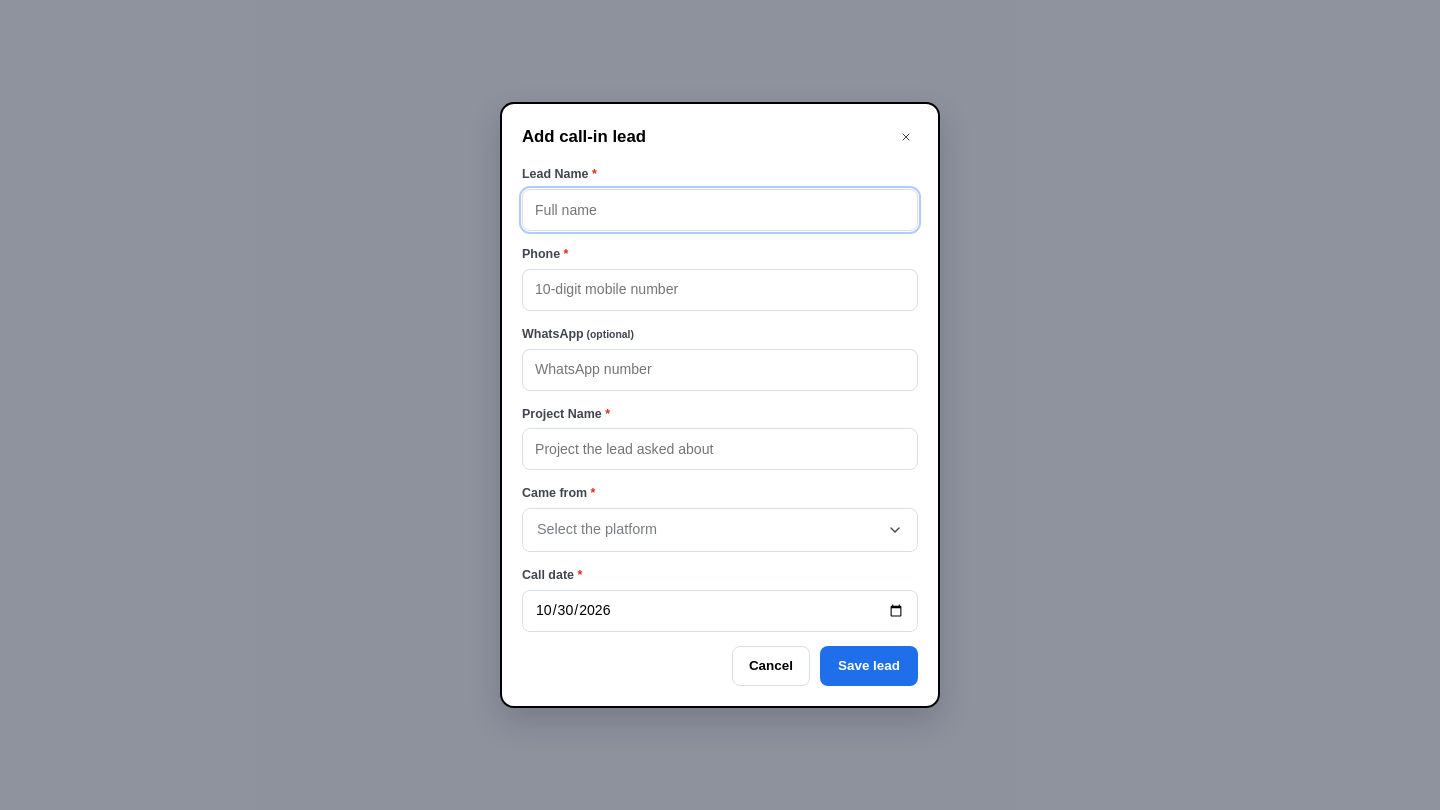
Test: AddCallInLeadDialog › when a platform was disconnected while the form was open, shows the error and the current platforms
The image size is (1440, 810).
Click the button named "Came from".
click(597, 529)  # box x1=522 y1=508 x2=918 y2=552
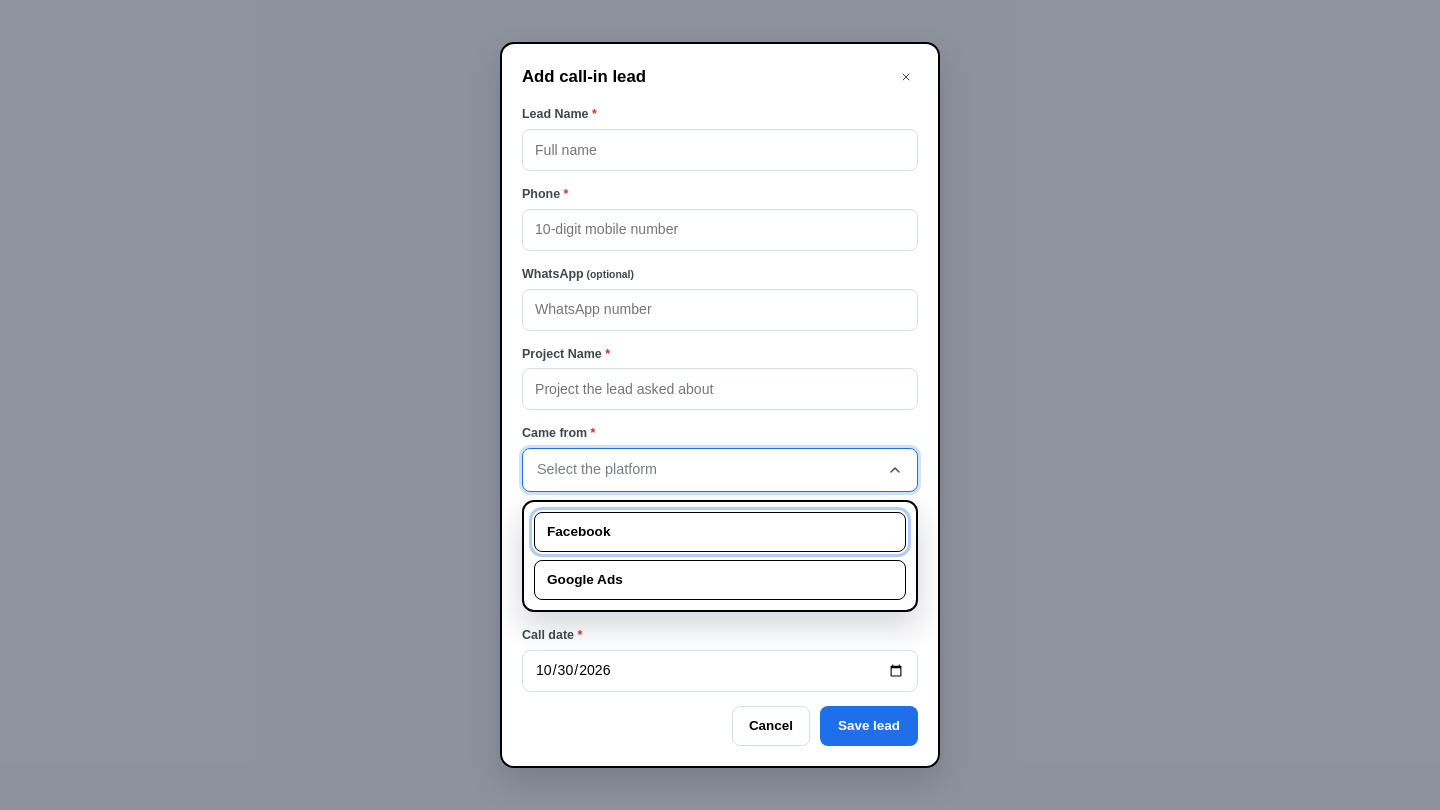
Click the option "Google Ads".
click(585, 579)  # box x1=534 y1=560 x2=906 y2=600
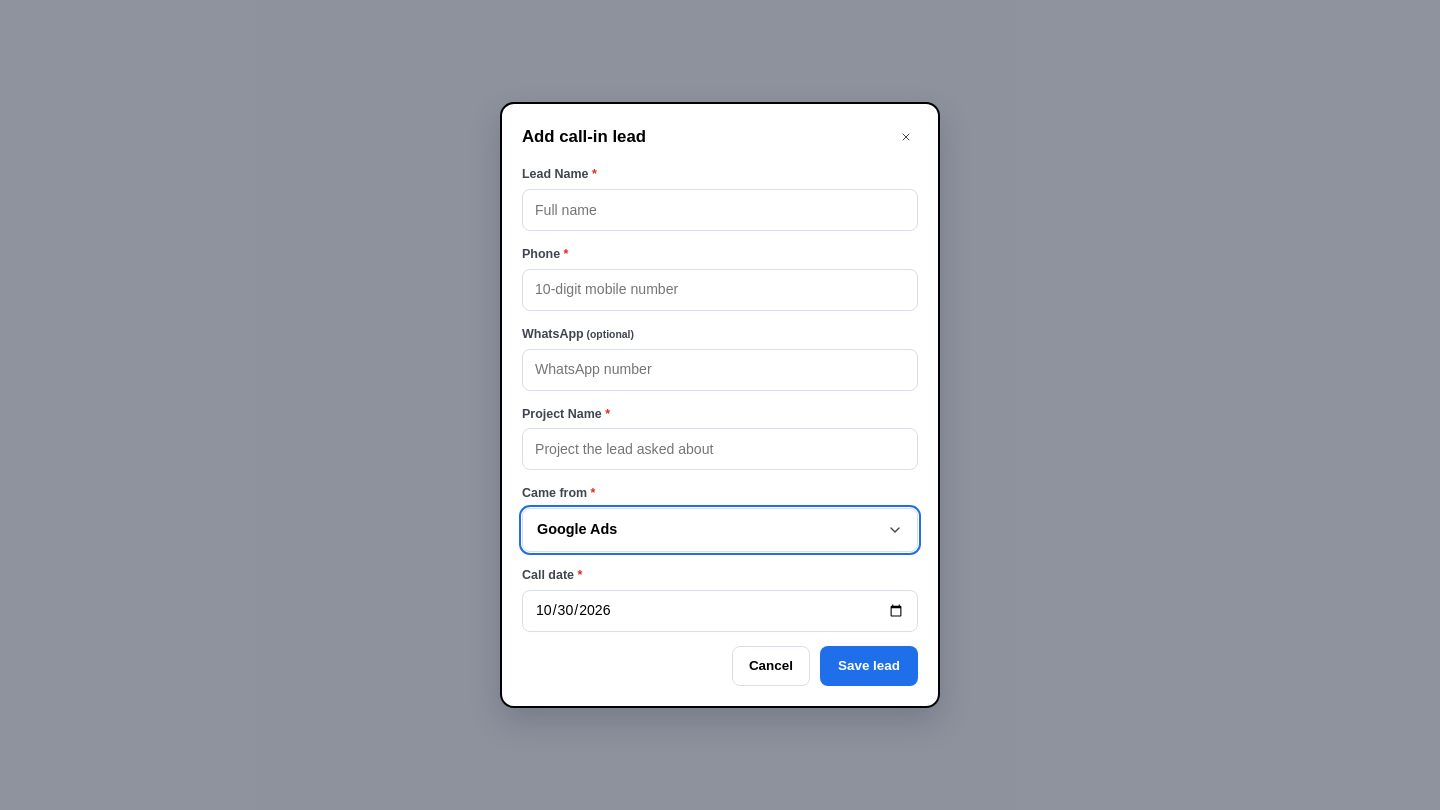
Type "Ravi" into the field with placeholder "Full name".
click(720, 210); type("Ravi")  # box x1=522 y1=189 x2=918 y2=231
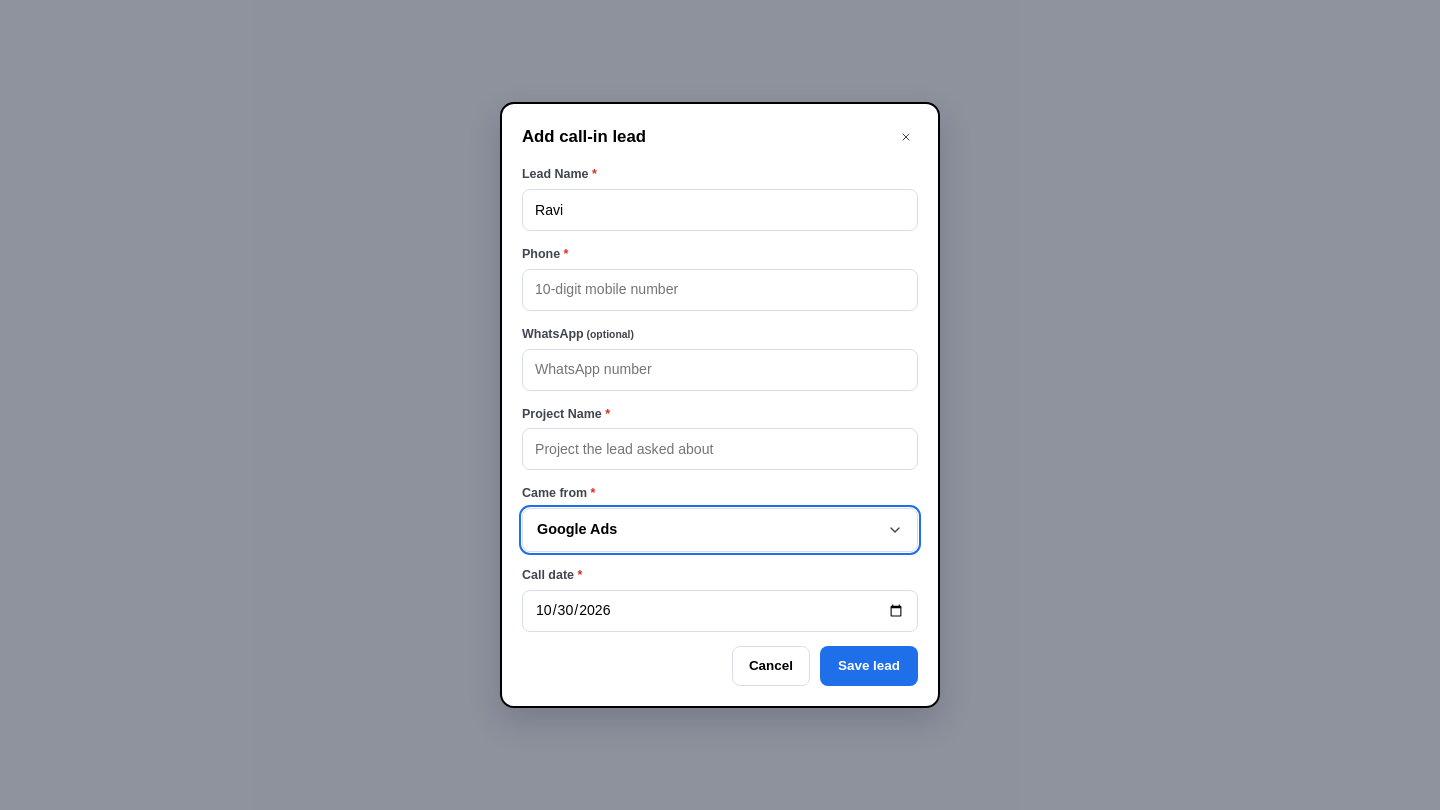
Type "9876543210" into the field with placeholder "10-digit mobile number".
click(720, 290); type("9876543210")  # box x1=522 y1=269 x2=918 y2=311
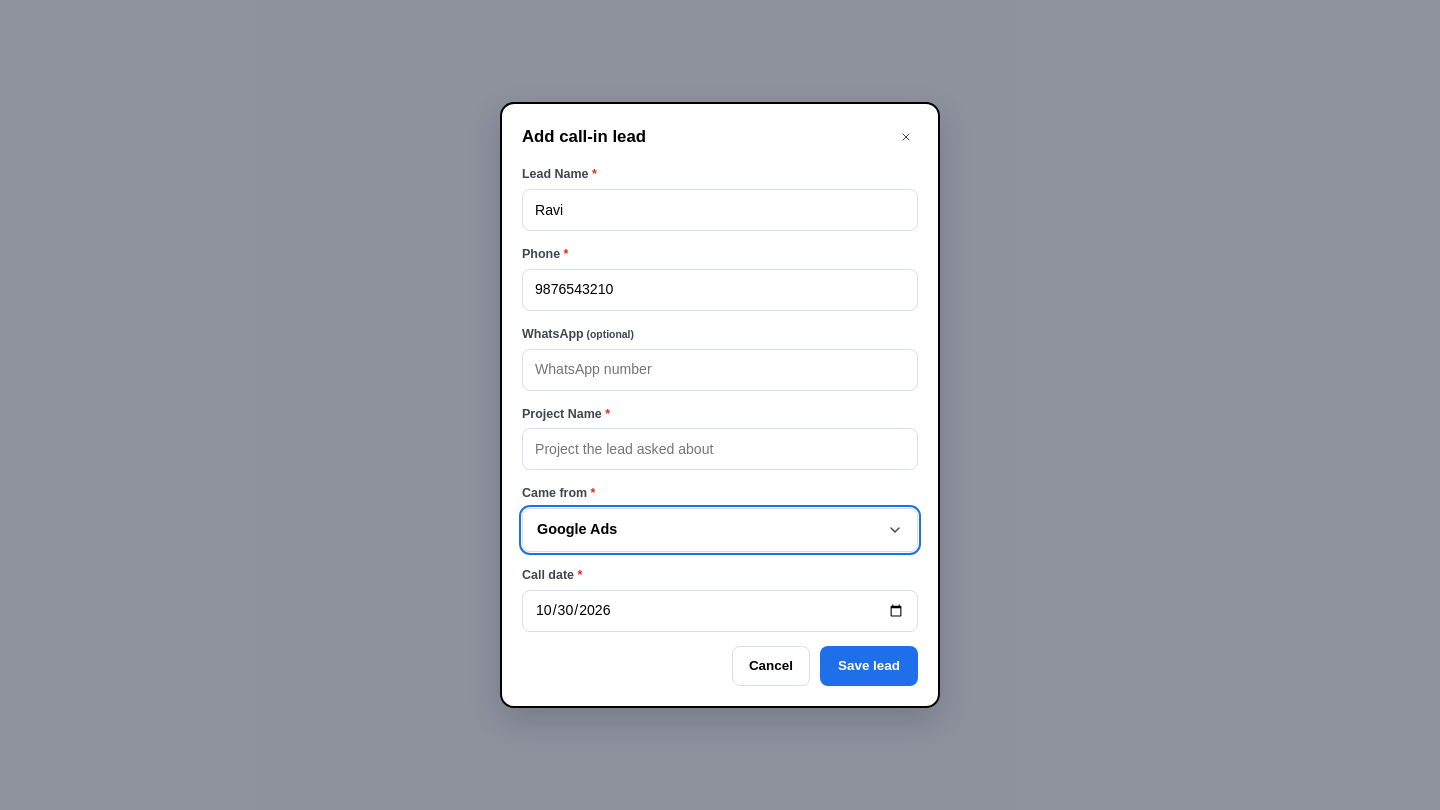
Type "Karuvi" into the field with placeholder "Project the lead asked about".
click(720, 449); type("Karuvi")  # box x1=522 y1=428 x2=918 y2=470
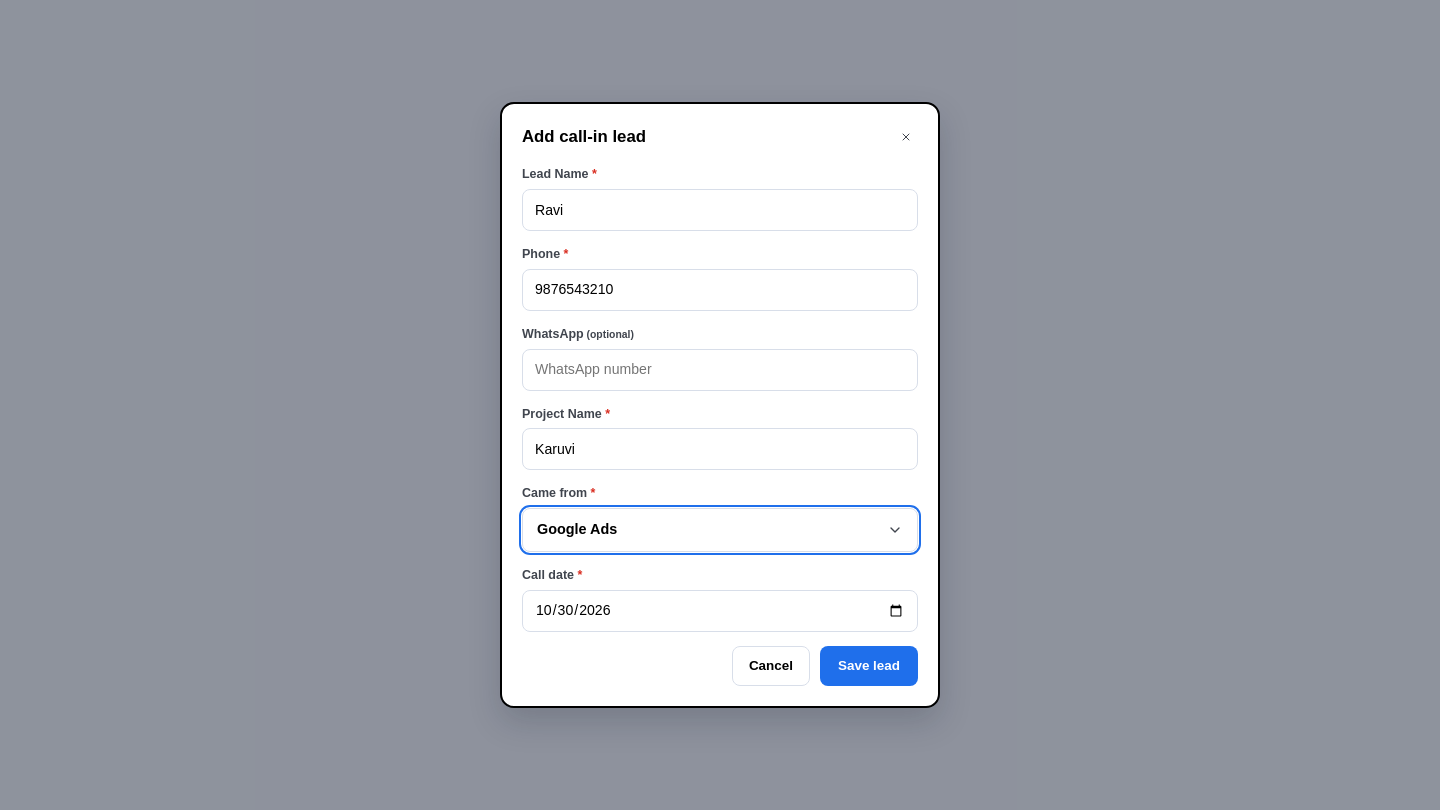
Click the button "Save lead".
click(869, 666)  # box x1=820 y1=646 x2=918 y2=686
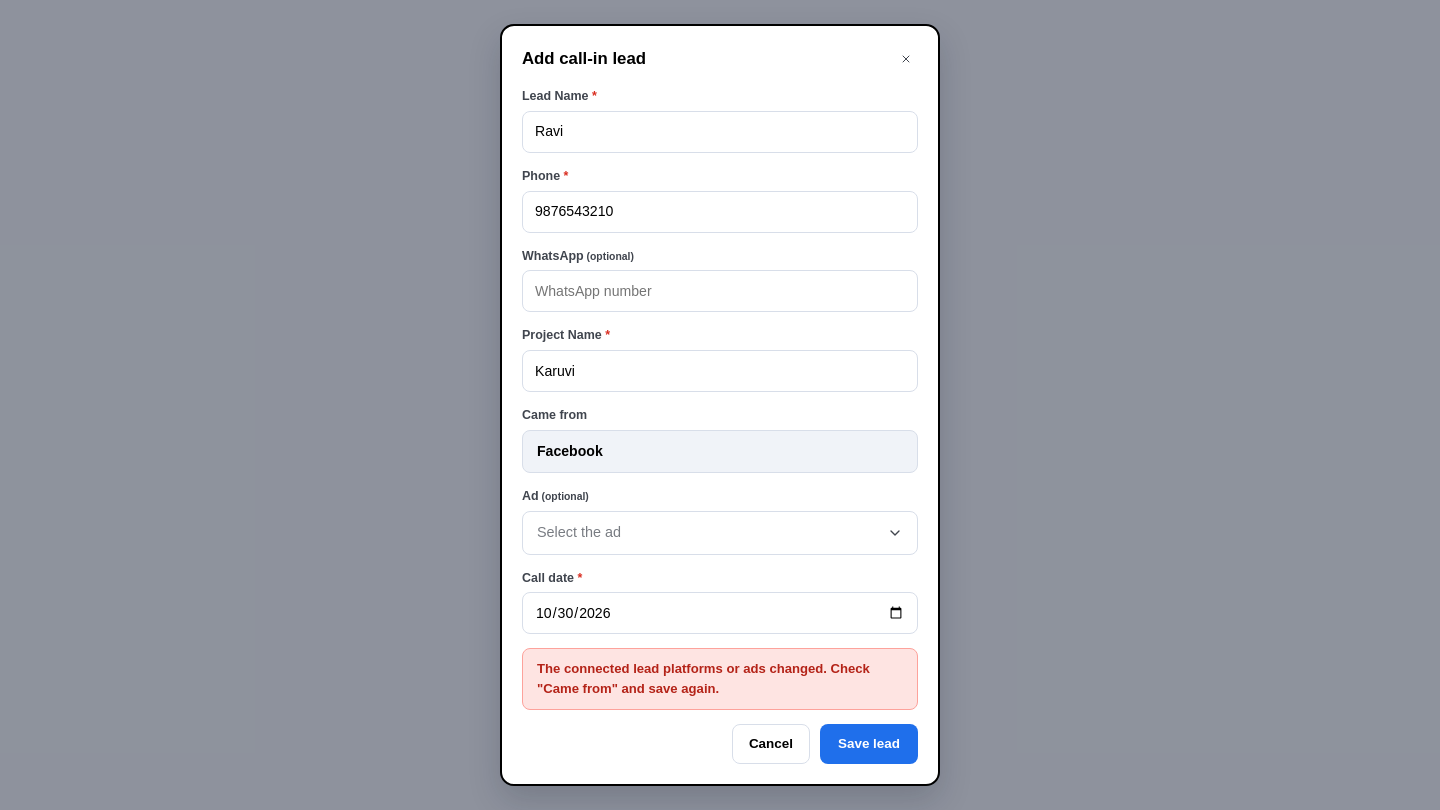
Check: the text "The connected lead platforms or ads changed. Check \"Came from\" and save again." is shown, box x1=522 y1=648 x2=918 y2=710
Check: the text "Facebook" is shown, box x1=522 y1=430 x2=918 y2=473
